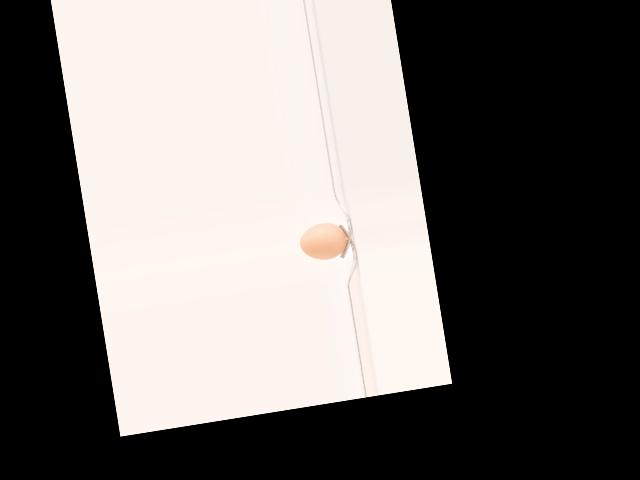egg: (297, 219, 349, 262)
